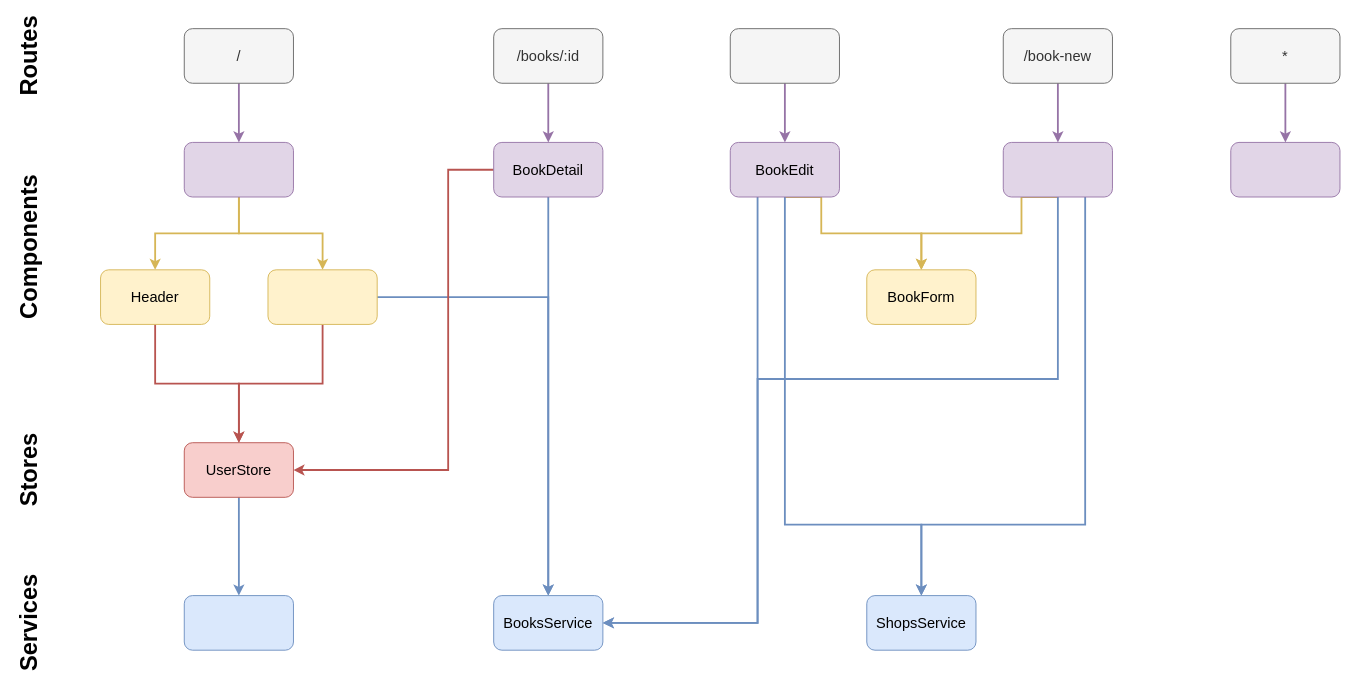
Some shapes in this 1356 by 687 pixel diagram are drawn without their labels. Each missing label, with the centre of its shape:
"/book/:id/edit" goes at pixel 784 55.
"BookNew" goes at pixel 1057 169.
"BooksList" goes at pixel 322 296.
"Home" goes at pixel 238 169.
"LoginService" goes at pixel 238 622.
"NotFound" goes at pixel 1285 169.
